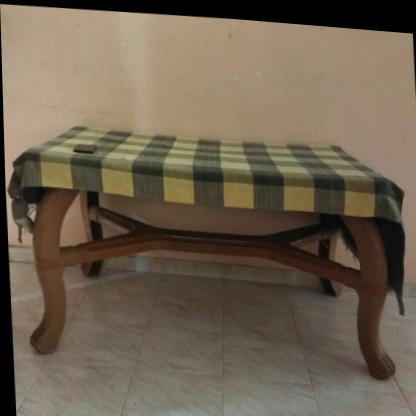Ceramic floor: (6, 239, 416, 416)
Table: (12, 100, 414, 406)
